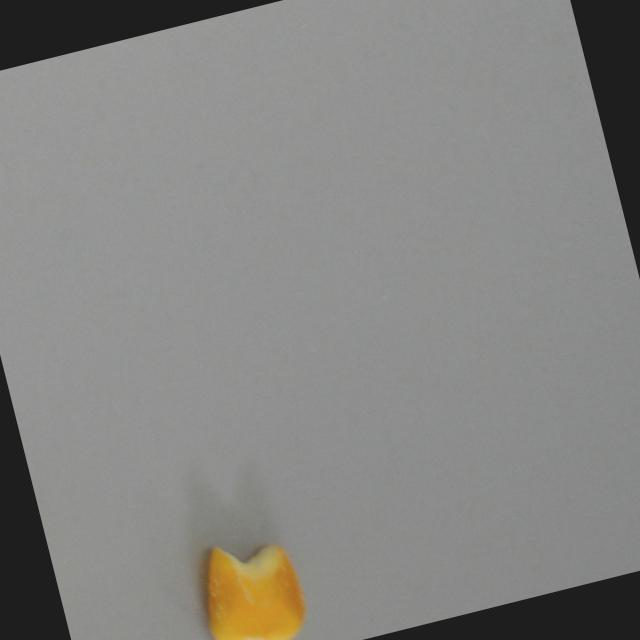punto_negro: (184, 518, 325, 640)
